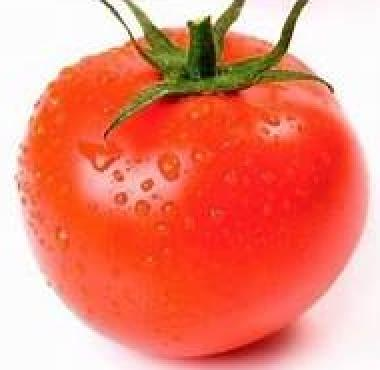tomato: (19, 24, 369, 356)
